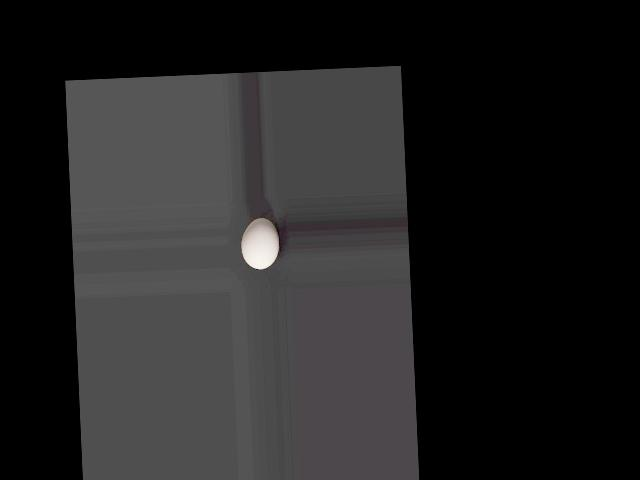egg: (240, 217, 280, 270)
